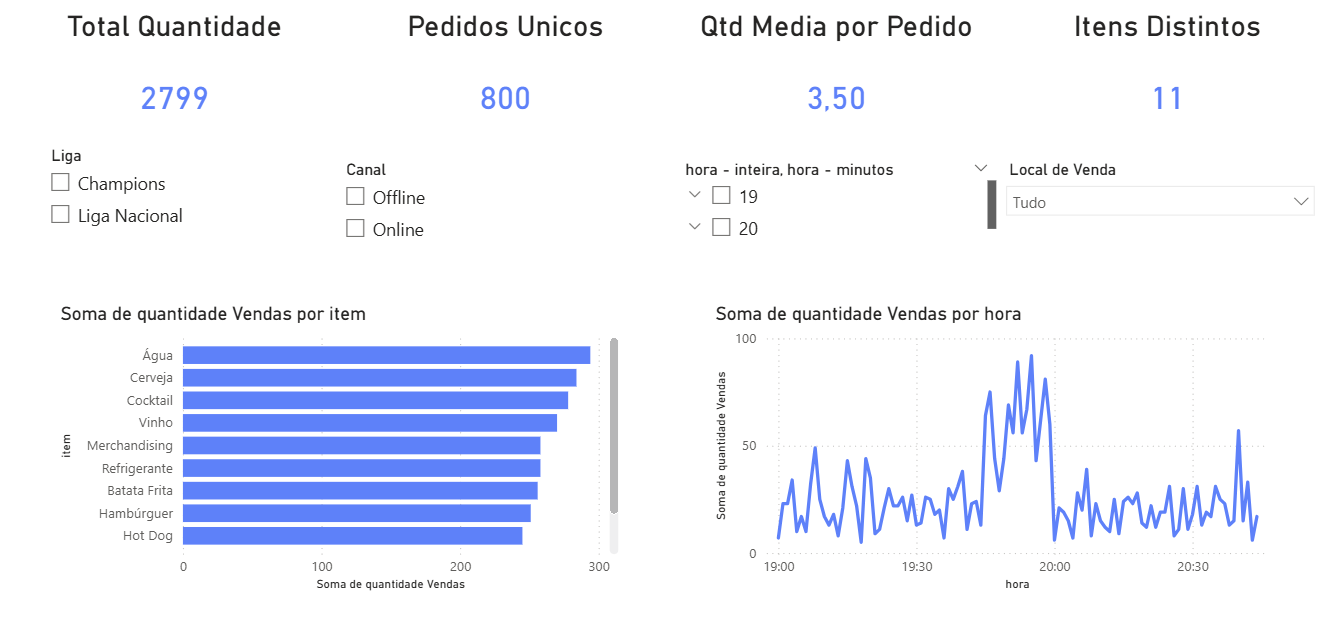

The page's visual inventory and layout, read from the dashboard file:
{"tool":"powerbi","page":{"name":"Visão Geral","canvas":[1280,720],"ordinal":0},"visuals":[{"type":"card","title":"Total Quantidade","fields":{"Values":["Fato_Vendas.Soma de quantidade Vendas"]},"box":[74.4,14.6,300.2,129.7],"z":0},{"type":"actionButton","box":[0,0,100,40],"z":1},{"type":"card","title":"Pedidos Unicos","fields":{"Values":["Fato_Vendas.Pedidos Únicos"]},"box":[374.5,14.6,300.2,129.7],"z":2},{"type":"card","title":"Qtd Media por Pedido","fields":{"Values":["Fato_Vendas.Qtd Média por Pedido"]},"box":[674.7,14.6,300.2,129.7],"z":3},{"type":"card","title":"Itens Distintos","fields":{"Values":["Fato_Vendas.Itens Distintos"]},"box":[974.8,14.6,300.2,129.7],"z":4},{"type":"lineChart","fields":{"Category":["Fato_Vendas.hora"],"Y":["Fato_Vendas.Soma de quantidade Vendas"]},"box":[710,281.1,516,266.6],"z":5},{"type":"clusteredBarChart","fields":{"Category":["Fato_Vendas.item"],"Y":["Fato_Vendas.Soma de quantidade Vendas"]},"box":[116.1,281.1,516,266.6],"z":7},{"type":"slicer","fields":{"Values":["Fato_Vendas.Liga"]},"box":[99.7,135.1,300.2,91.6],"z":8},{"type":"slicer","fields":{"Values":["Fato_Vendas.canal"]},"box":[367.3,147.8,300.2,90.7],"z":9},{"type":"slicer","fields":{"Values":["Fato_Vendas.local_venda"]},"box":[968.5,147.8,300.2,103.4],"z":10},{"type":"slicer","fields":{"Values":["Fato_Vendas.hora - inteira","Fato_Vendas.hora - minutos"]},"box":[674.7,147.8,300.2,84.3],"z":11}]}

Visuals, with their boxes on the page's 1280x720 design canvas (x1, y1, x2, y2). These are canvas units, not pixel positions in the 1332x622 screenshot, which may show the page scaled, cropped or inside an application window:
"Total Quantidade" card: x1=74, y1=15, x2=375, y2=144
actionButton: x1=0, y1=0, x2=100, y2=40
"Pedidos Unicos" card: x1=374, y1=15, x2=675, y2=144
"Qtd Media por Pedido" card: x1=675, y1=15, x2=975, y2=144
"Itens Distintos" card: x1=975, y1=15, x2=1275, y2=144
lineChart - Fato_Vendas.hora x Fato_Vendas.Soma de quantidade Vendas: x1=710, y1=281, x2=1226, y2=548
clusteredBarChart - Fato_Vendas.item x Fato_Vendas.Soma de quantidade Vendas: x1=116, y1=281, x2=632, y2=548
slicer - Fato_Vendas.Liga: x1=100, y1=135, x2=400, y2=227
slicer - Fato_Vendas.canal: x1=367, y1=148, x2=668, y2=238
slicer - Fato_Vendas.local_venda: x1=968, y1=148, x2=1269, y2=251
slicer - Fato_Vendas.hora - inteira x Fato_Vendas.hora - minutos: x1=675, y1=148, x2=975, y2=232
